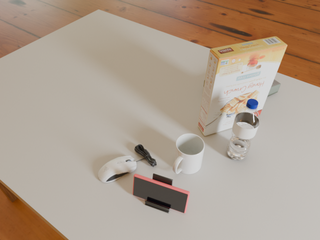bottle: (226, 98, 260, 161)
box: (198, 37, 287, 136)
cup: (173, 134, 204, 174)
mouse: (98, 156, 137, 182)
phone: (133, 174, 190, 213)
